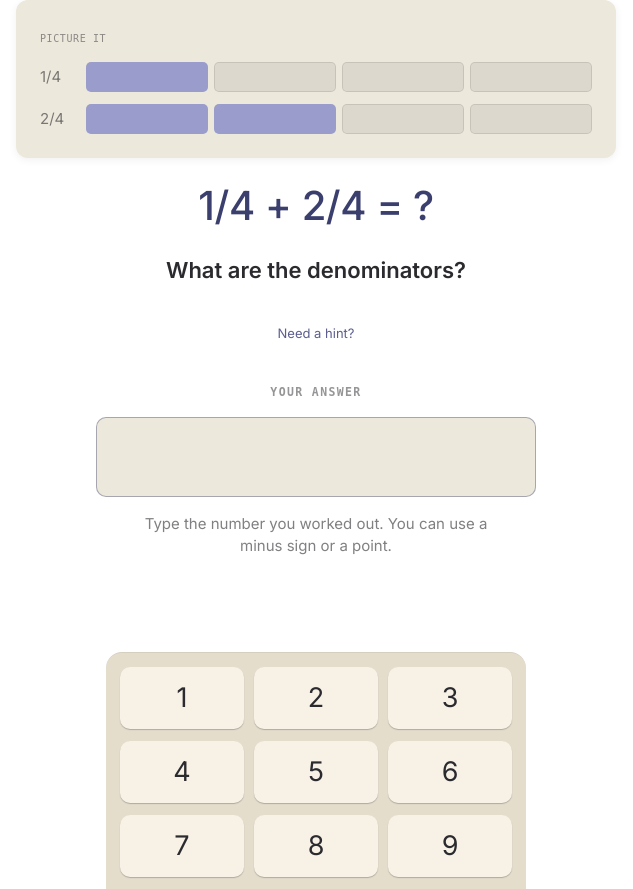
entering a number (D150) › swaps the link for the hint in the same slot
Click the button "Need a hint?" at {"x": 316, "y": 334}, box [270,312,362,356]
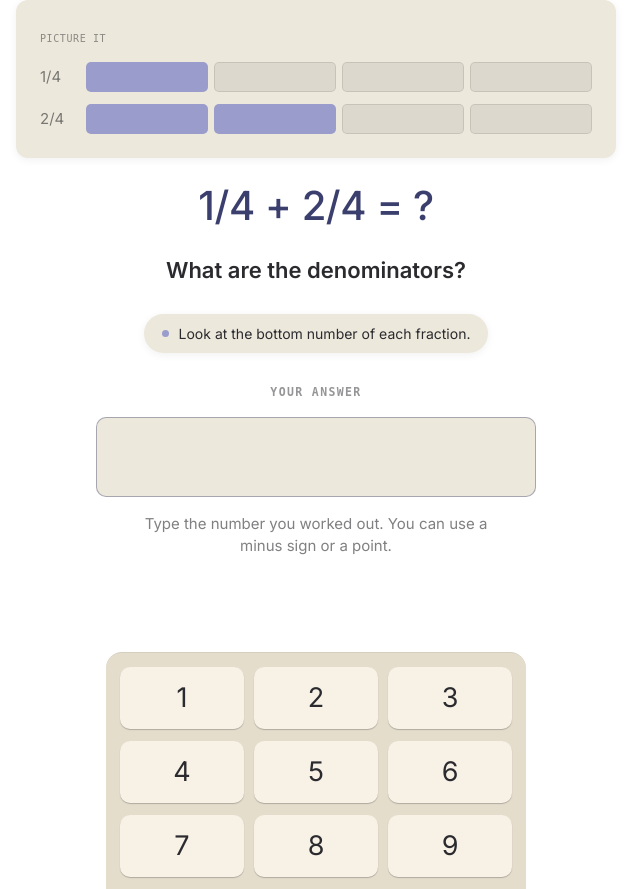
Check: the button "Need a hint?" is gone
Check: the element showing "Look at the bottom number of each fraction." is shown, box [144,314,488,354]
